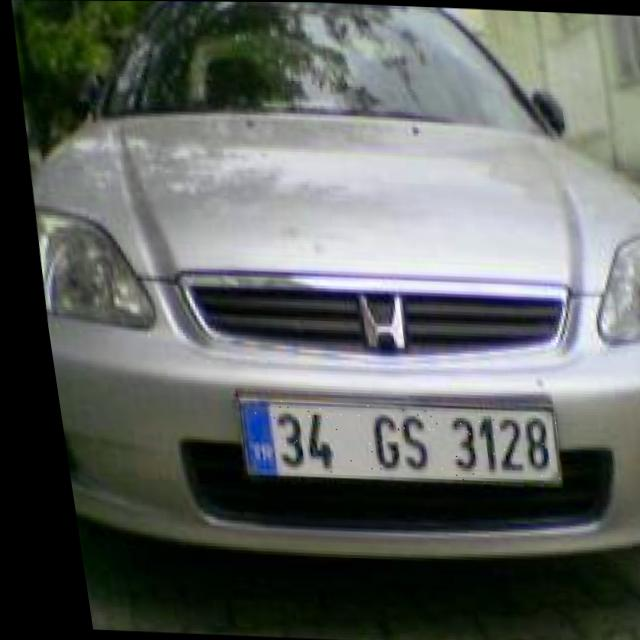license_plate: (224, 398, 551, 487)
